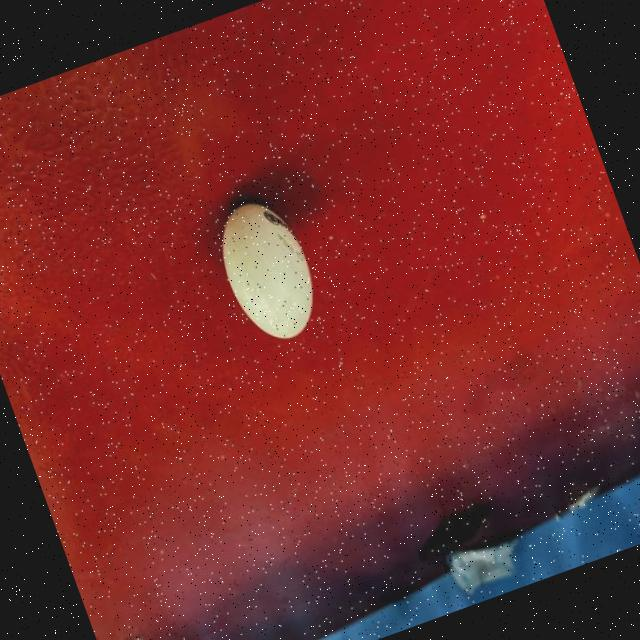ping-pong-ball: (202, 186, 332, 354)
